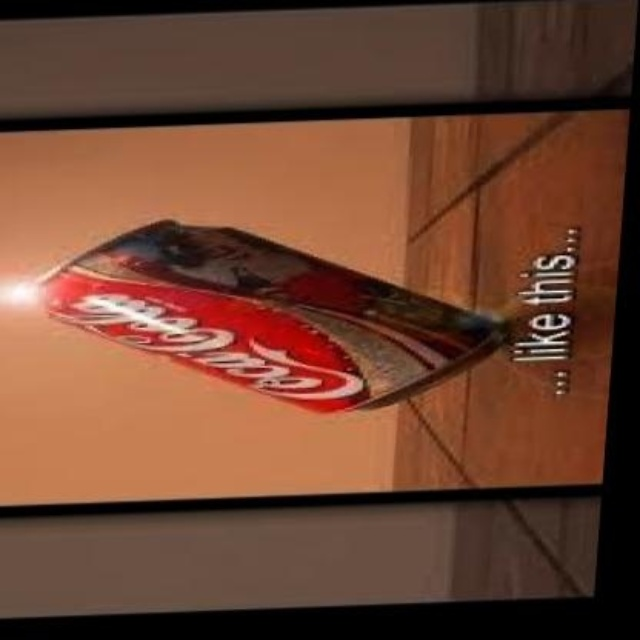trash: (46, 220, 500, 409)
